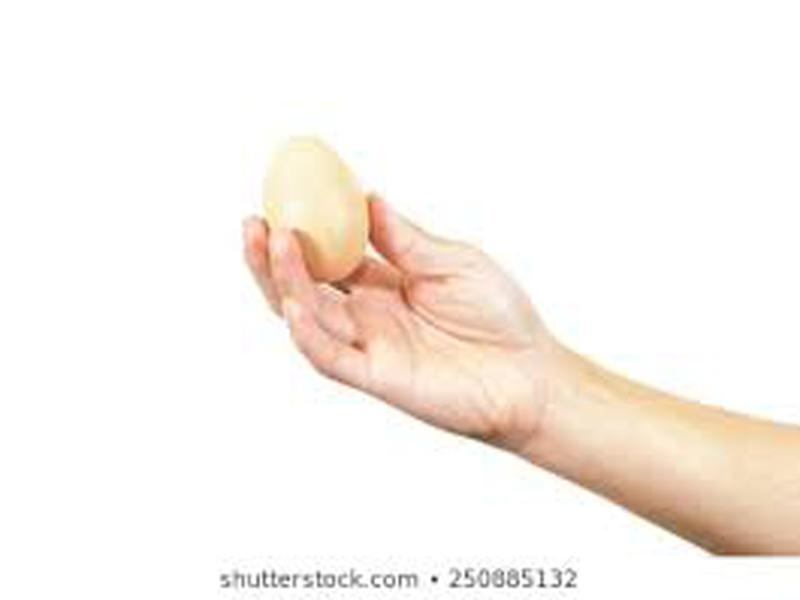Eggs: (263, 133, 368, 287)
